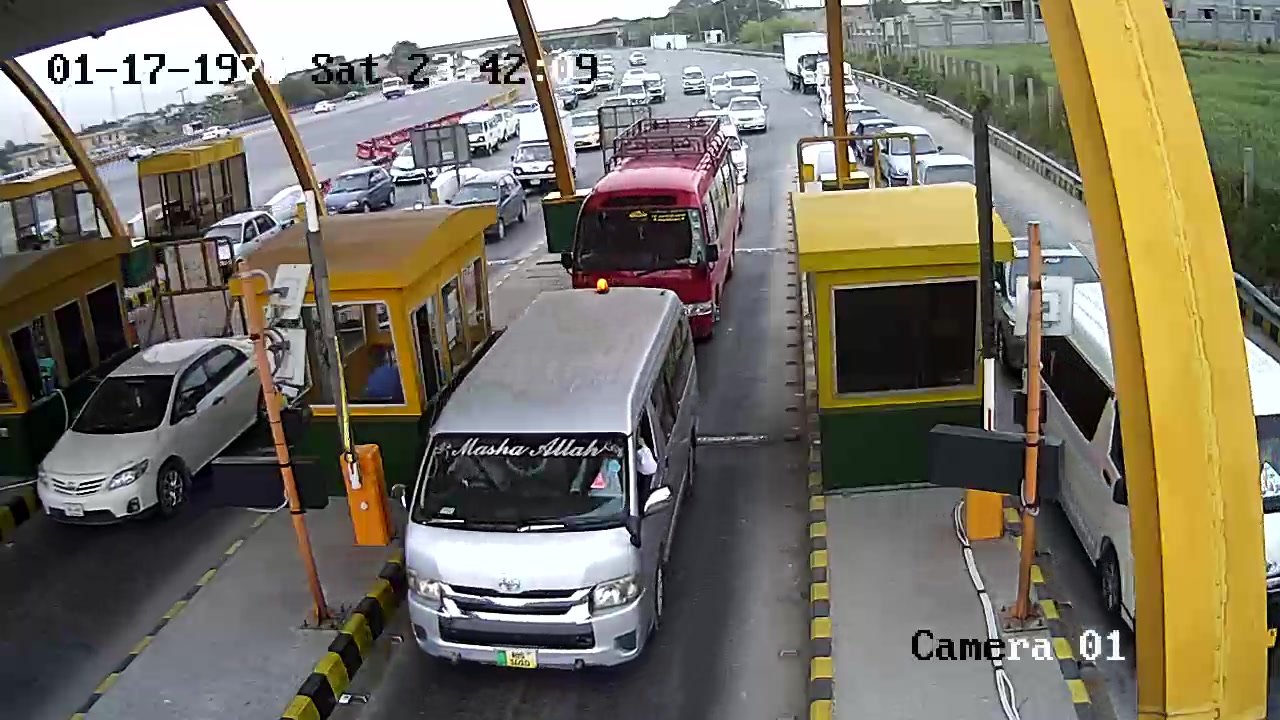F3: (396, 282, 698, 679)
